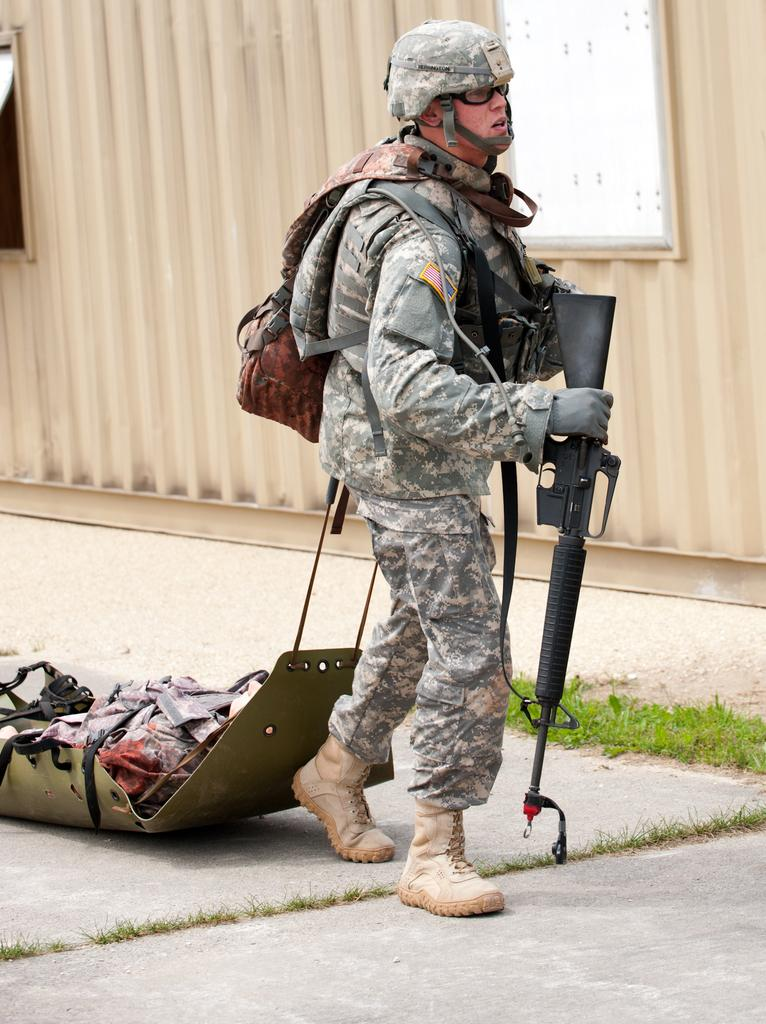non-violence: (232, 19, 607, 938)
weapon: (522, 293, 621, 855)
